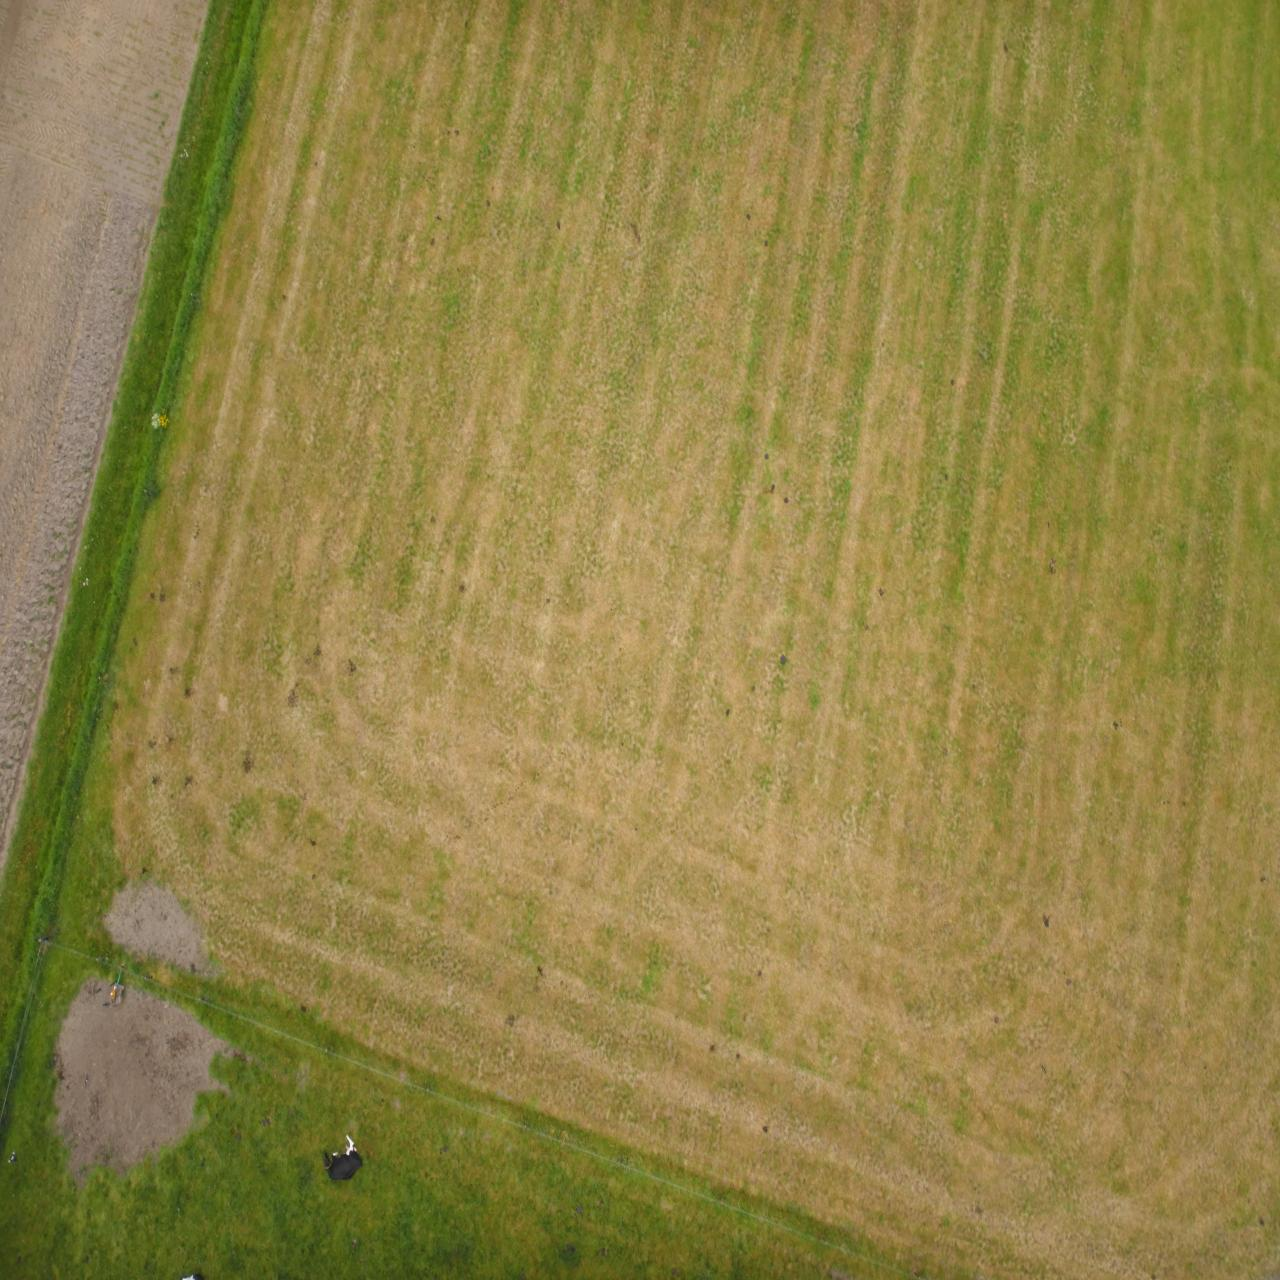cow: (918, 100, 956, 146)
